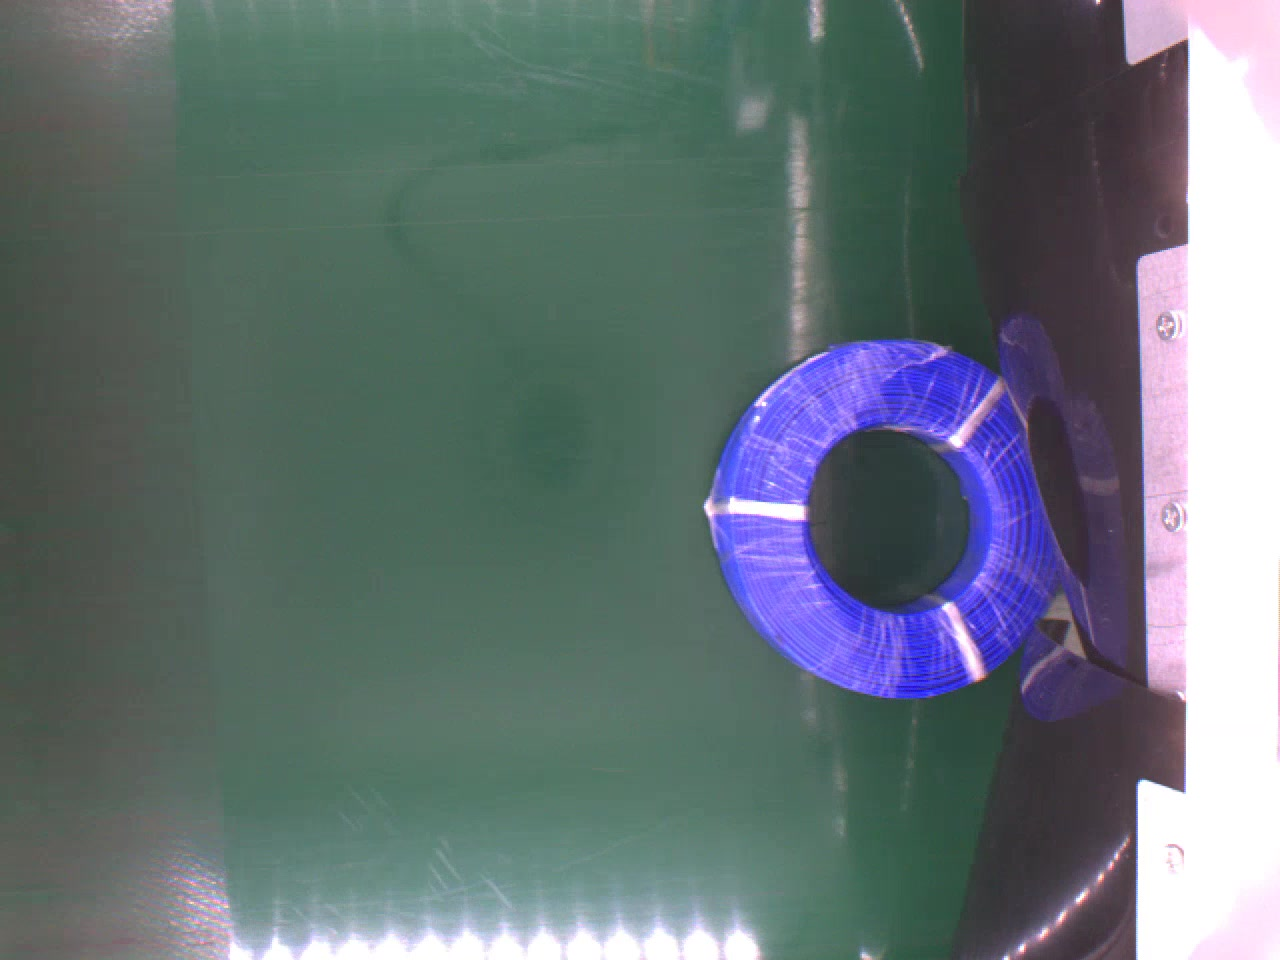blue: (707, 333, 1060, 700)
